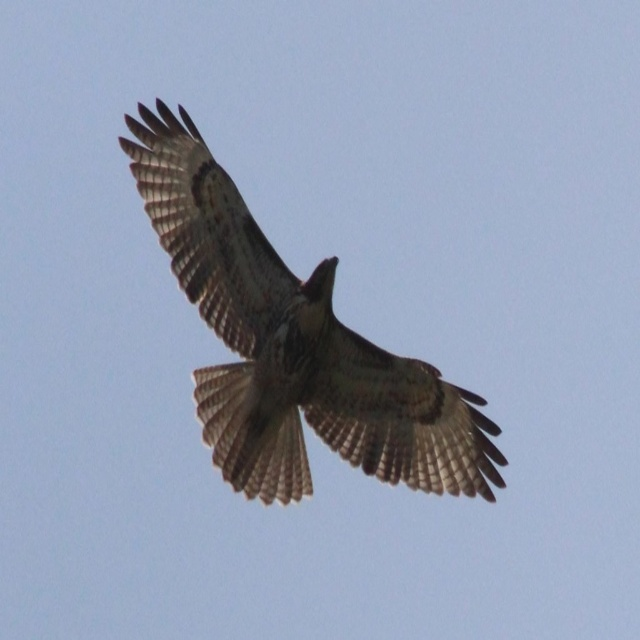Eagle: (116, 97, 508, 508)
